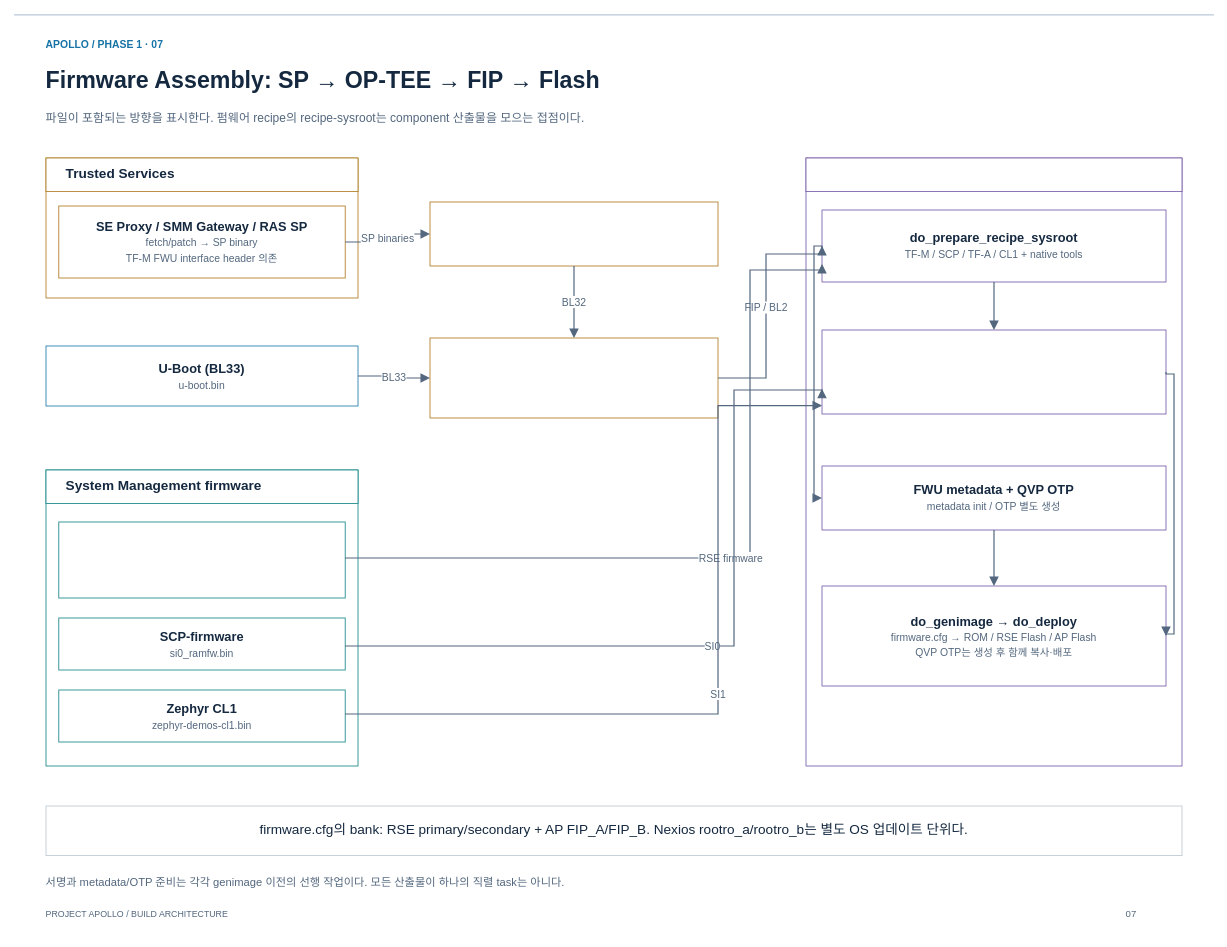
Image size: 1227x947. Some labels were removed from this diagram. The box of each missing label's shape, as (x1, y1, x2, y2) in pixels:
do_sign_images AP BL2 / SI0 / SI1 서명 fiptool --tb-fw → fip_with_bl2.bin: (821, 329, 1166, 414)
firmware-apollo-qvp · Arm firmware recipe 재사용: (805, 157, 1182, 192)
OP-TEE (BL32) SP_PATHS로 SP를 embed: (429, 201, 718, 266)
TF-A BL31 + BL32 + BL33 + HW_CONFIG → fip.bin / bl2.bin: (429, 337, 718, 418)
TF-M bl1_1 / bl2_signed / tfm_s_signed keys / provisioning / OTP config: (58, 521, 345, 598)
